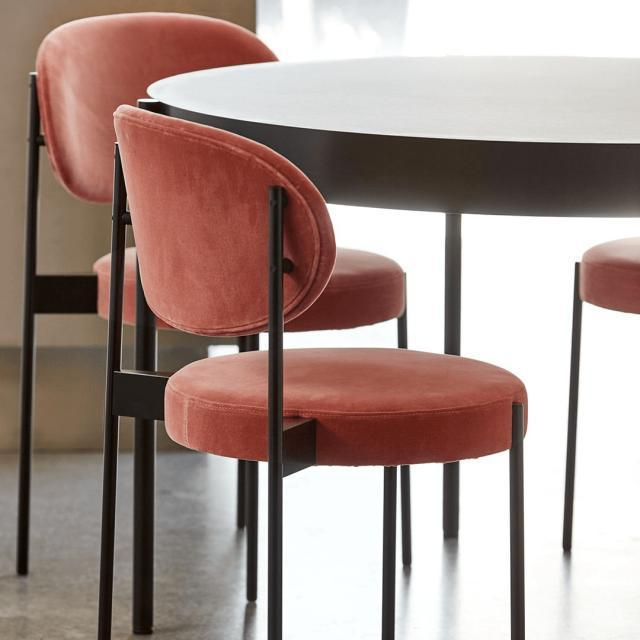chair: (15, 4, 419, 604), (98, 98, 539, 640), (116, 98, 530, 456), (42, 17, 427, 330)
